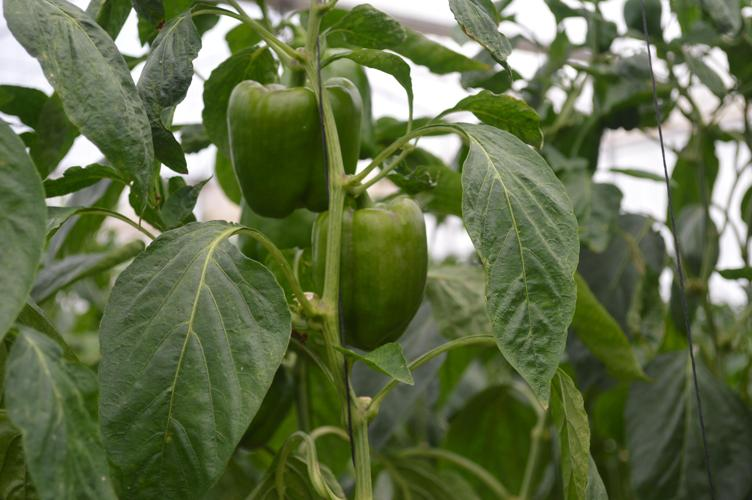BellPepper: (229, 82, 365, 218), (310, 197, 425, 343)
